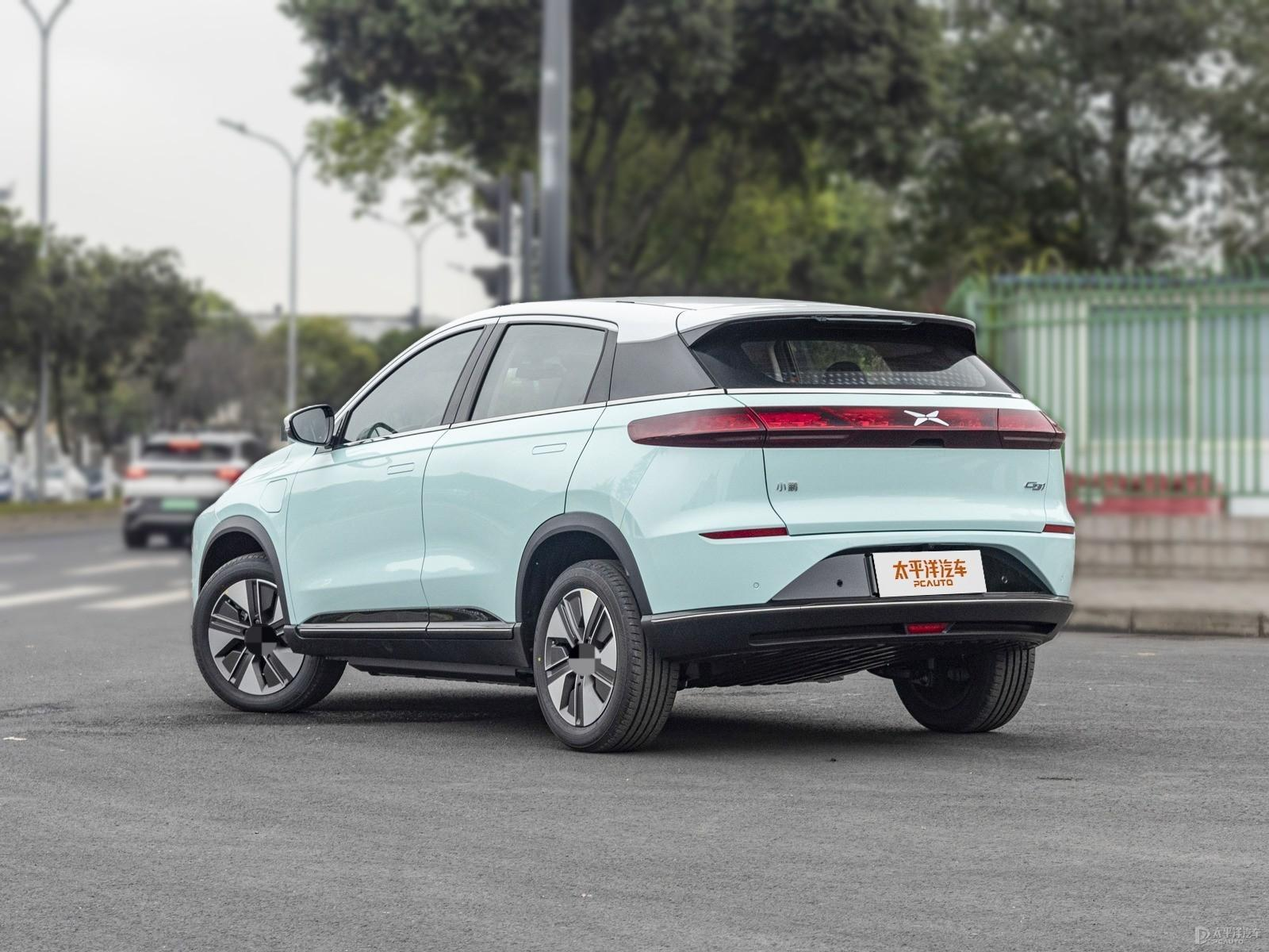XPeng Motors: (904, 409, 949, 427)
